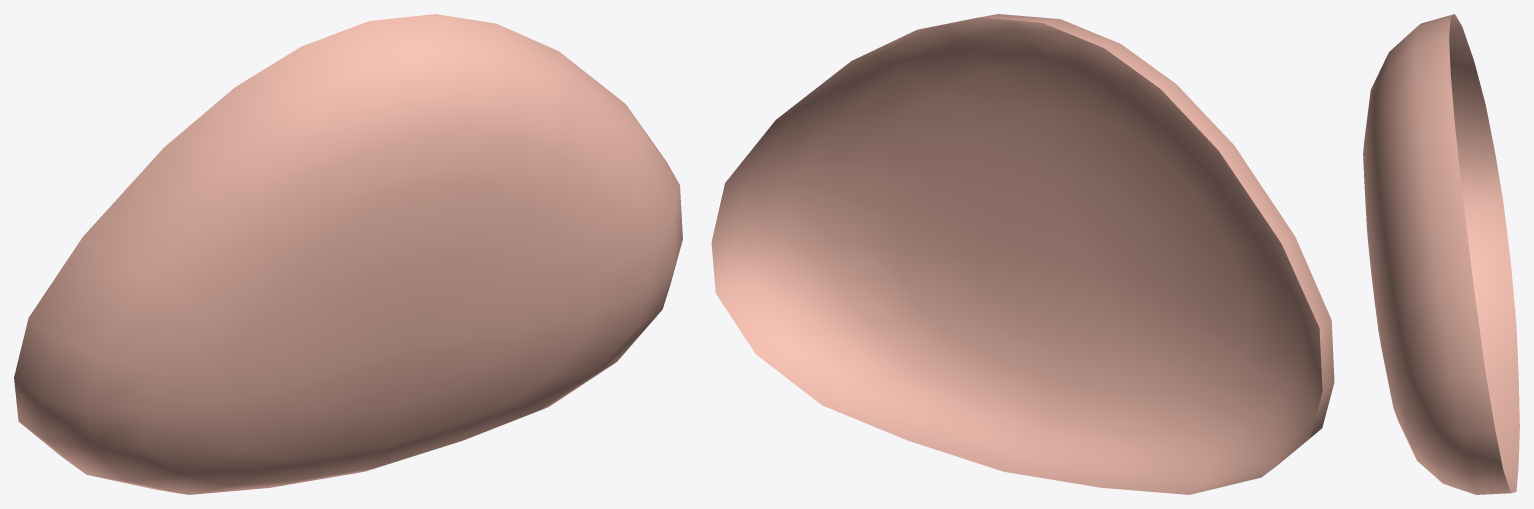
The model's file is Nose B 4.glb.
3 renders of one model, left to right at view 1: azimuth 30°, elevation 25°; view 2: azimuth 150°, elevation 25°; view 3: azimuth 270°, elevation 25°, orthographic. The views are drawn at different scales.
Parts seen in each view (by area): view 1: nose_b_4; view 2: nose_b_4; view 3: nose_b_4.
Boxes of the visible parts, x1,y1,x2,y2 form: nose_b_4: (14,14,682,494); nose_b_4: (711,14,1334,494); nose_b_4: (1363,14,1519,494).
Size of the model in its own units: 0.000993 by 0.000662 by 0.000238.
